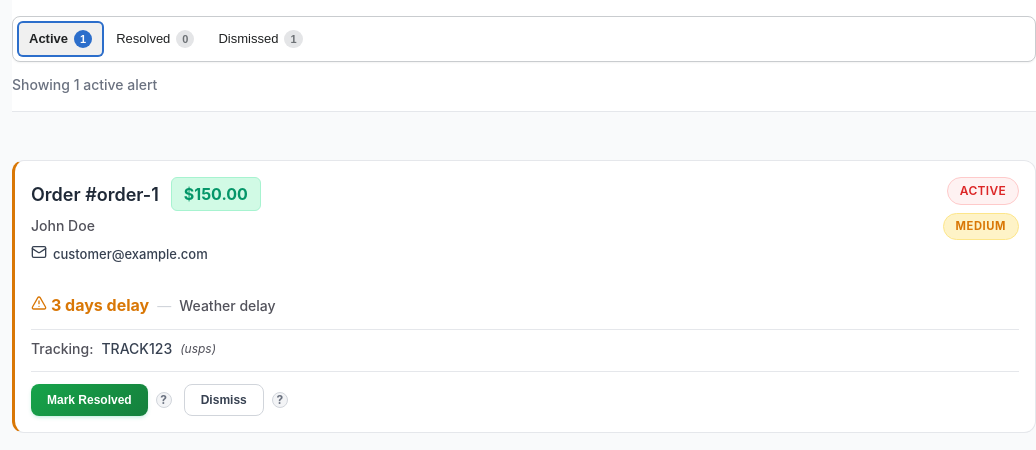
Test: AlertsTab Component › Tab-Specific Empty States › should show resolved empty state when no resolved alerts
Click Resolved tab
What coordinates should you click on to do the following:
click the text "Resolved"
I would click on:
 (143, 39)
Its box is [116,29,170,49].
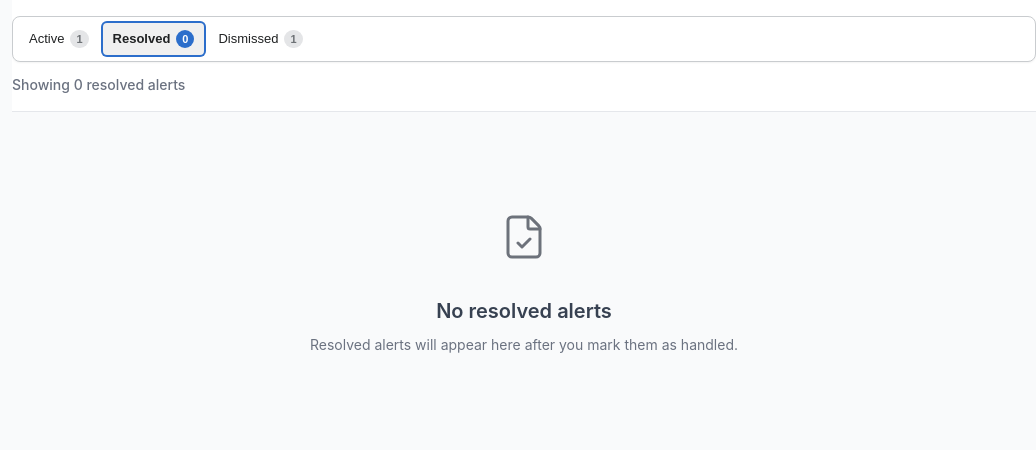
Now the heading "No resolved alerts" is shown, box [436,296,612,326]
Now the text "Resolved alerts will appear here after you mark them as handled." is shown, box [310,334,738,355]
